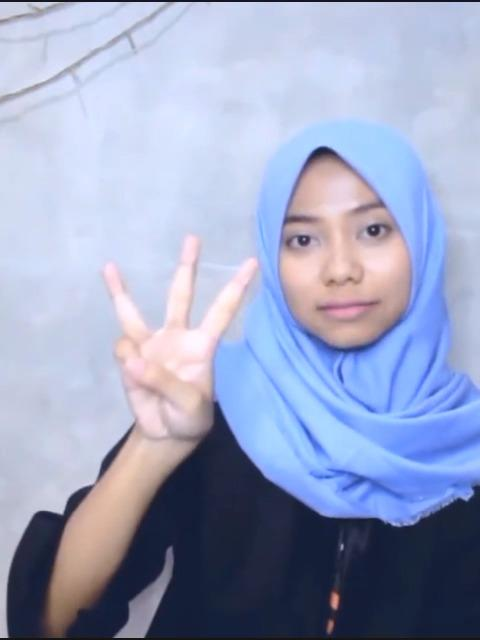W: (100, 234, 260, 446)
